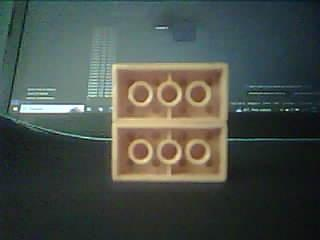lego: (112, 62, 228, 182)
